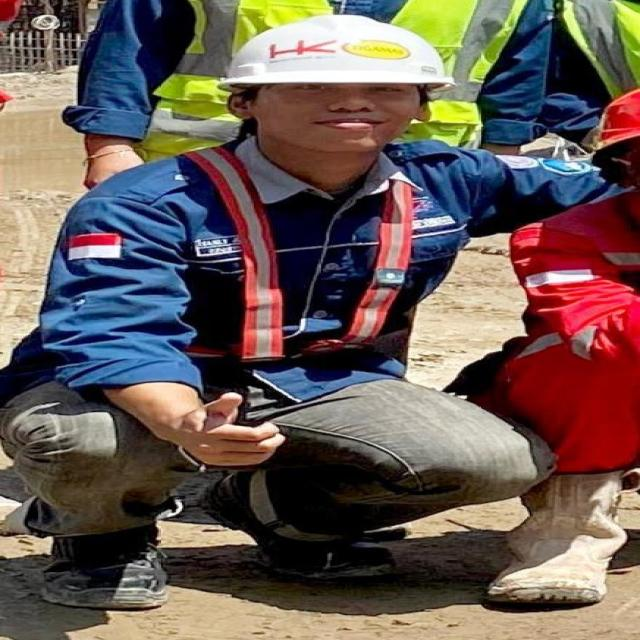safetyhelmet: (220, 10, 478, 146)
